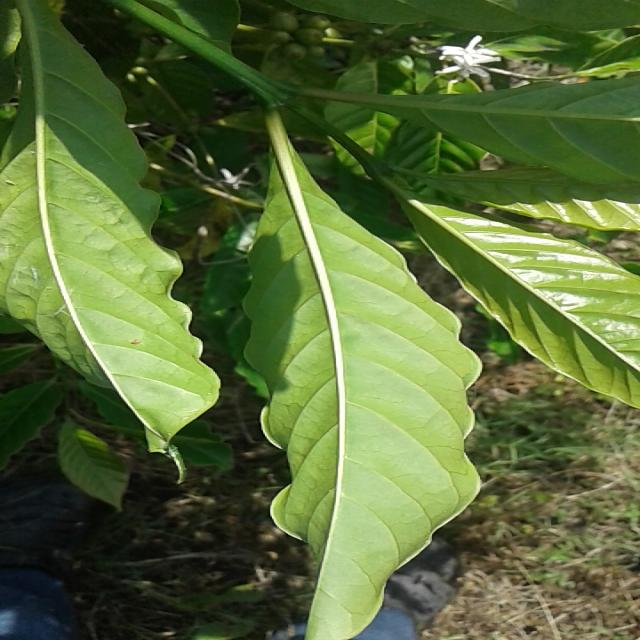Sanas: (199, 115, 484, 588)
